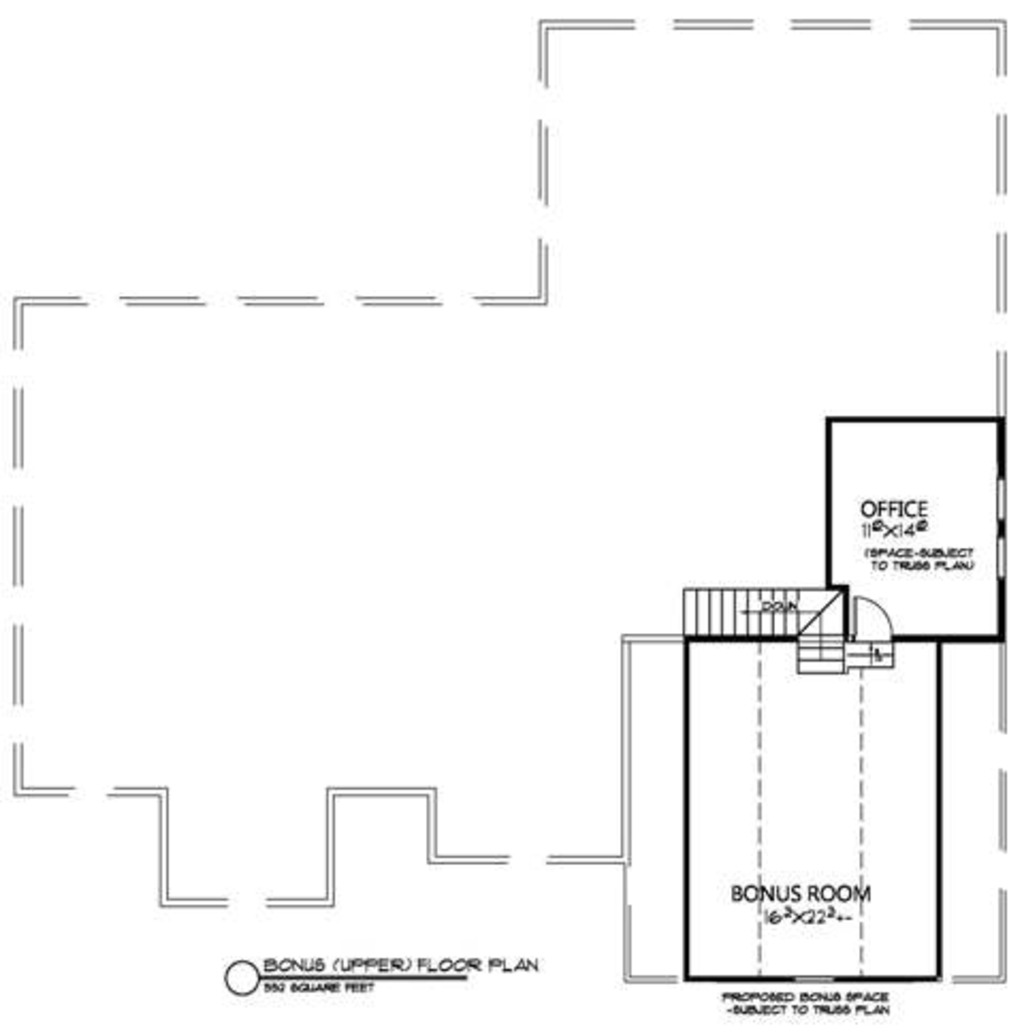door: (848, 594, 900, 649)
stairs: (670, 568, 903, 688)
window: (997, 474, 1009, 524), (995, 533, 1006, 583)
